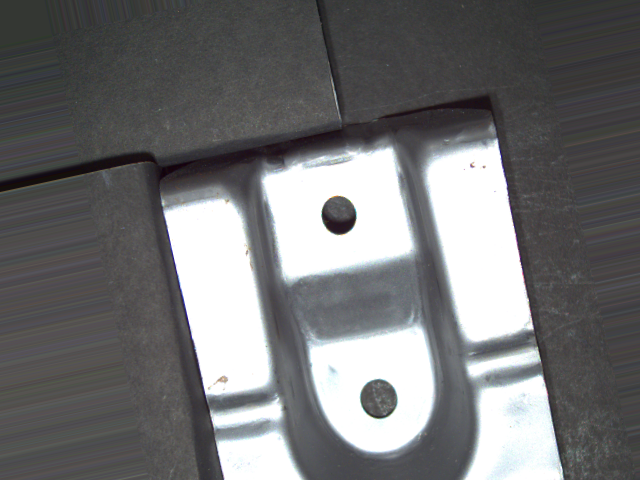defect: (358, 377, 401, 421)
